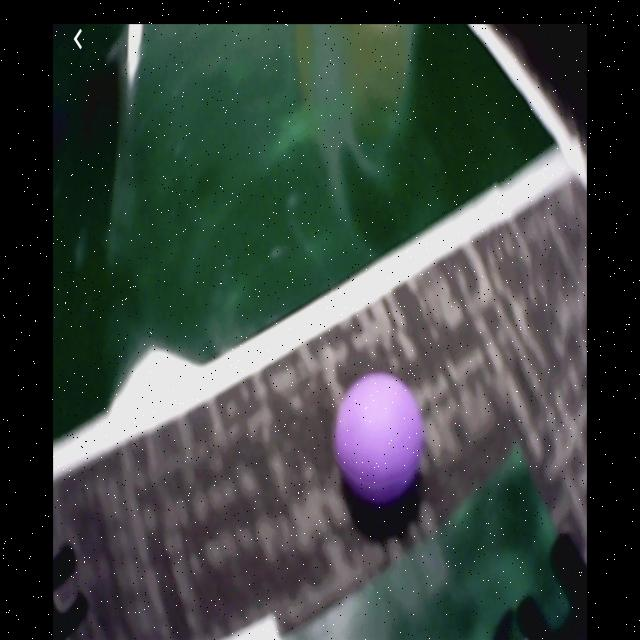ball: (333, 373, 422, 504)
